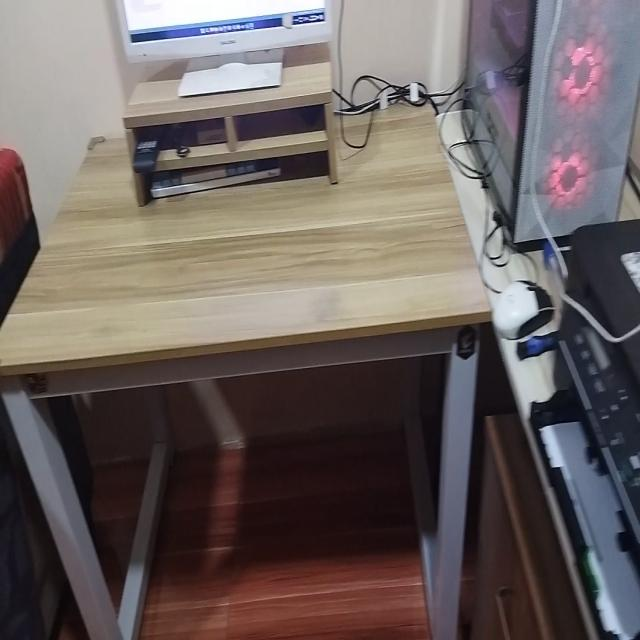table: (0, 96, 485, 640)
